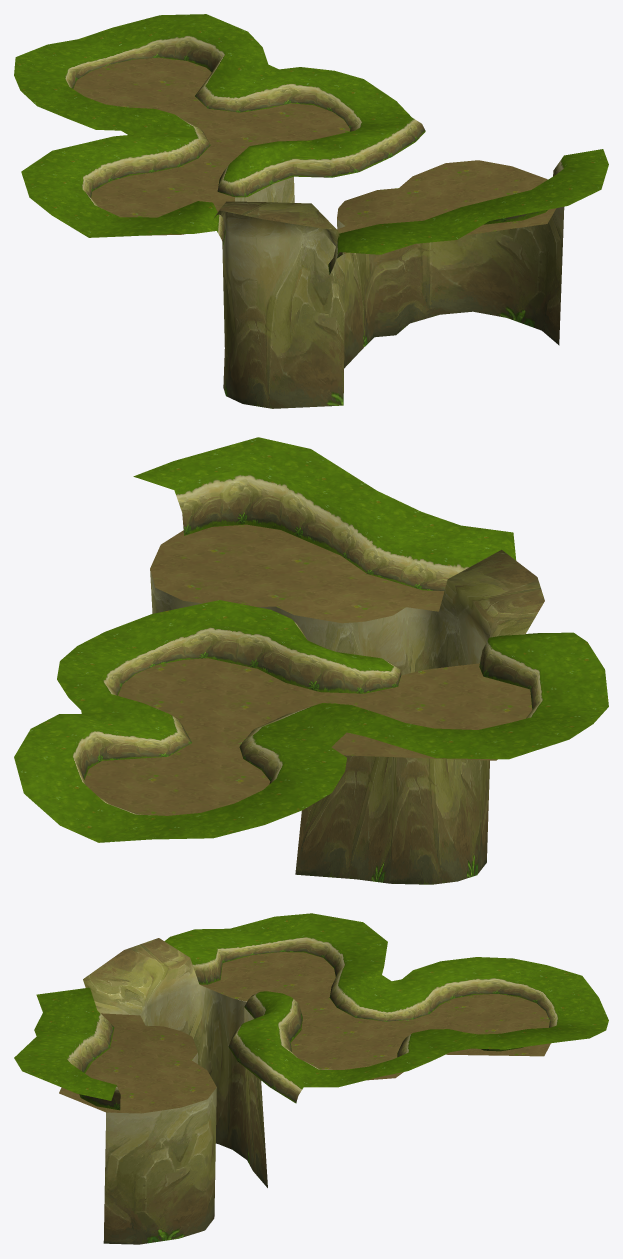
The model's file is loyalismwood_ground01.FBX.
3 views of the same model, one above another, from view 1: azimuth 30°, elevation 25°; view 2: azimuth 150°, elevation 25°; view 3: azimuth 270°, elevation 25° (orthographic). The views are drawn at different scales.
Parts seen in each view (by area): view 1: loyalismwood_ground01_b, loyalismwood_ground01_a; view 2: loyalismwood_ground01_b, loyalismwood_ground01_a; view 3: loyalismwood_ground01_b, loyalismwood_ground01_a.
Boxes of the visible parts, <box> form: loyalismwood_ground01_b: <box>14,14,608,408</box>; loyalismwood_ground01_a: <box>73,57,556,253</box>; loyalismwood_ground01_b: <box>14,437,608,884</box>; loyalismwood_ground01_a: <box>84,524,532,815</box>; loyalismwood_ground01_b: <box>14,913,608,1244</box>; loyalismwood_ground01_a: <box>59,952,550,1113</box>.
Bounding box in the file's own units: 10975 × 4811 × 13577.
